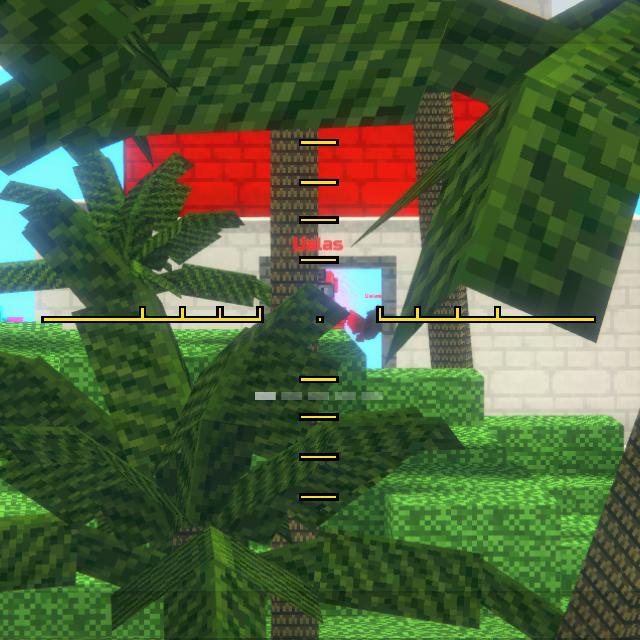Enemy: (317, 268, 347, 329)
